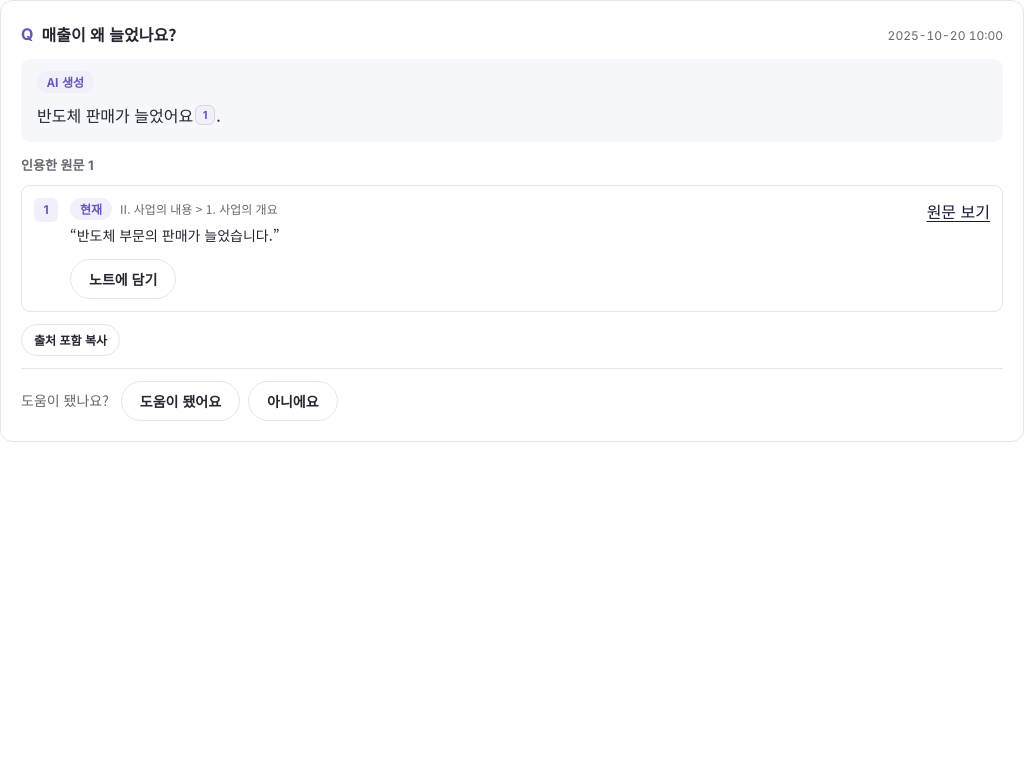
Test: AddToNote(FS-57) › AI 답의 인용을 담으면 질문 ID·인용 번호와 메모만 보낸다(글은 보내지 않음)
Click the button with aria-label "노트에 담기: 인용 1 II. 사업의 내용 > 1. 사업의 개요" at (123, 279), box x1=70 y1=259 x2=176 y2=299
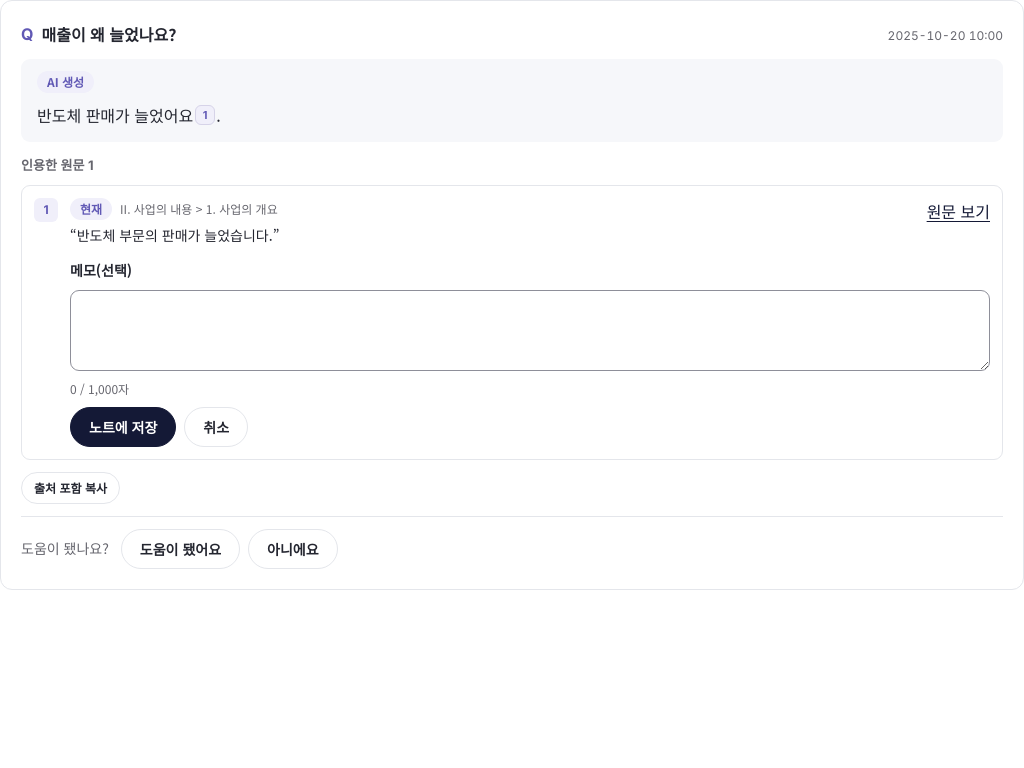
Type "설명 확인" into the text box labelled "메모(선택)" at (530, 330), box x1=70 y1=290 x2=990 y2=371
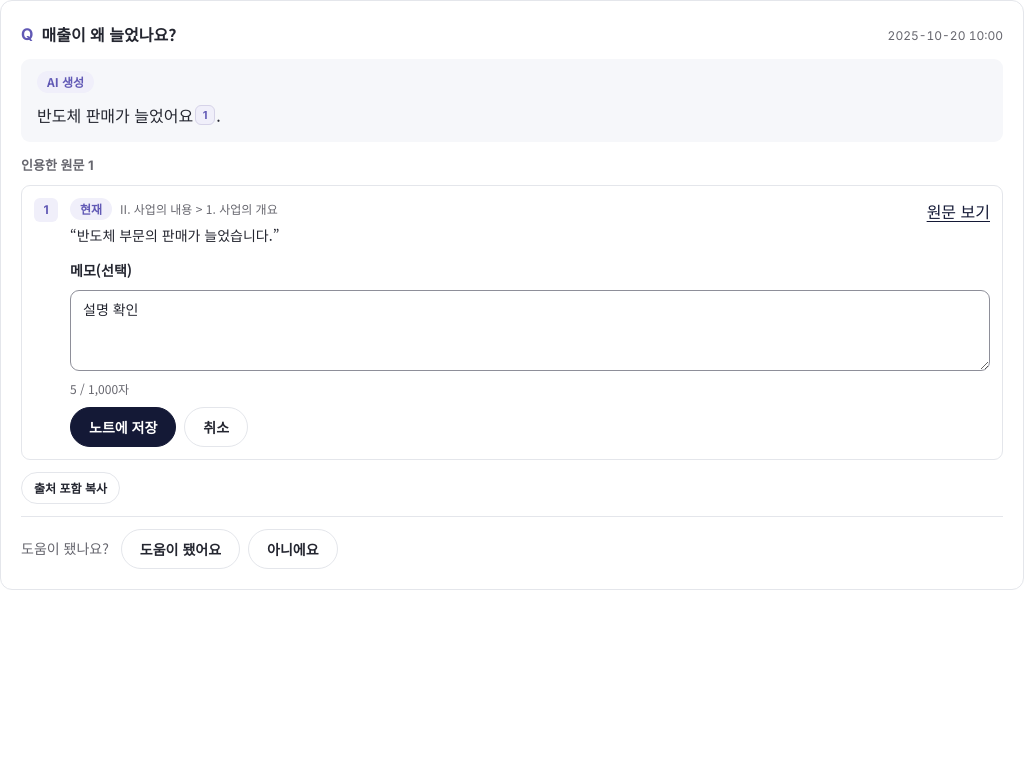
Click the button "노트에 저장" at (123, 427), box x1=70 y1=407 x2=176 y2=447
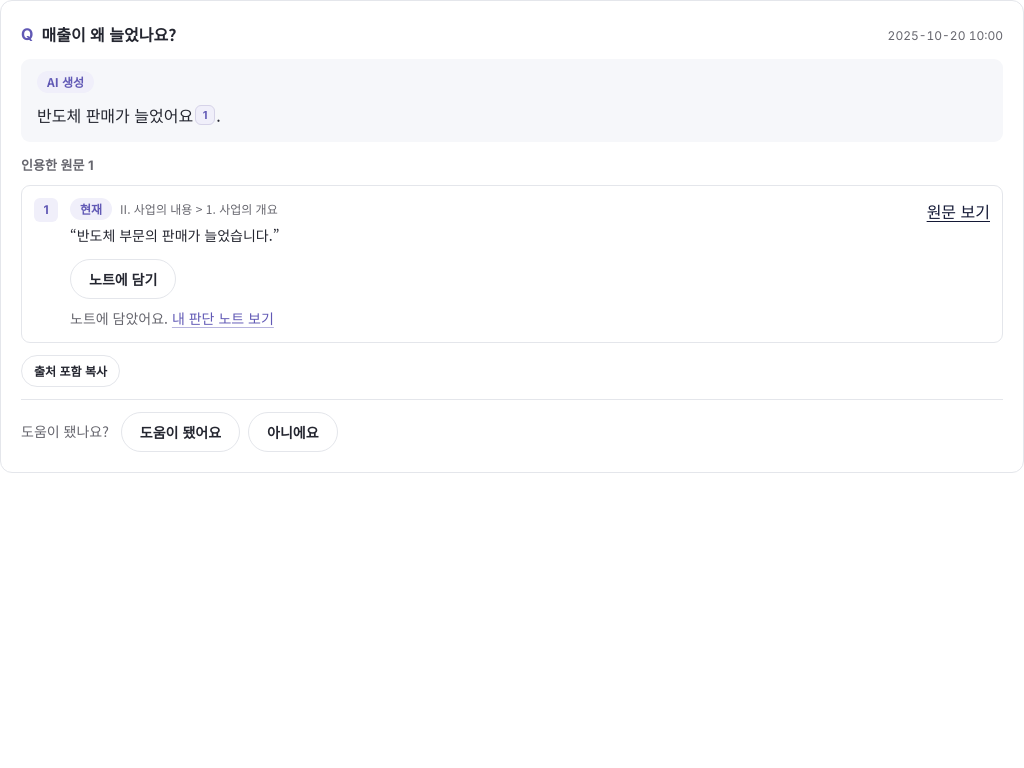
Expected: the text "노트에 담았어요. 내 판단 노트 보기" is shown, x1=70 y1=307 x2=274 y2=330
